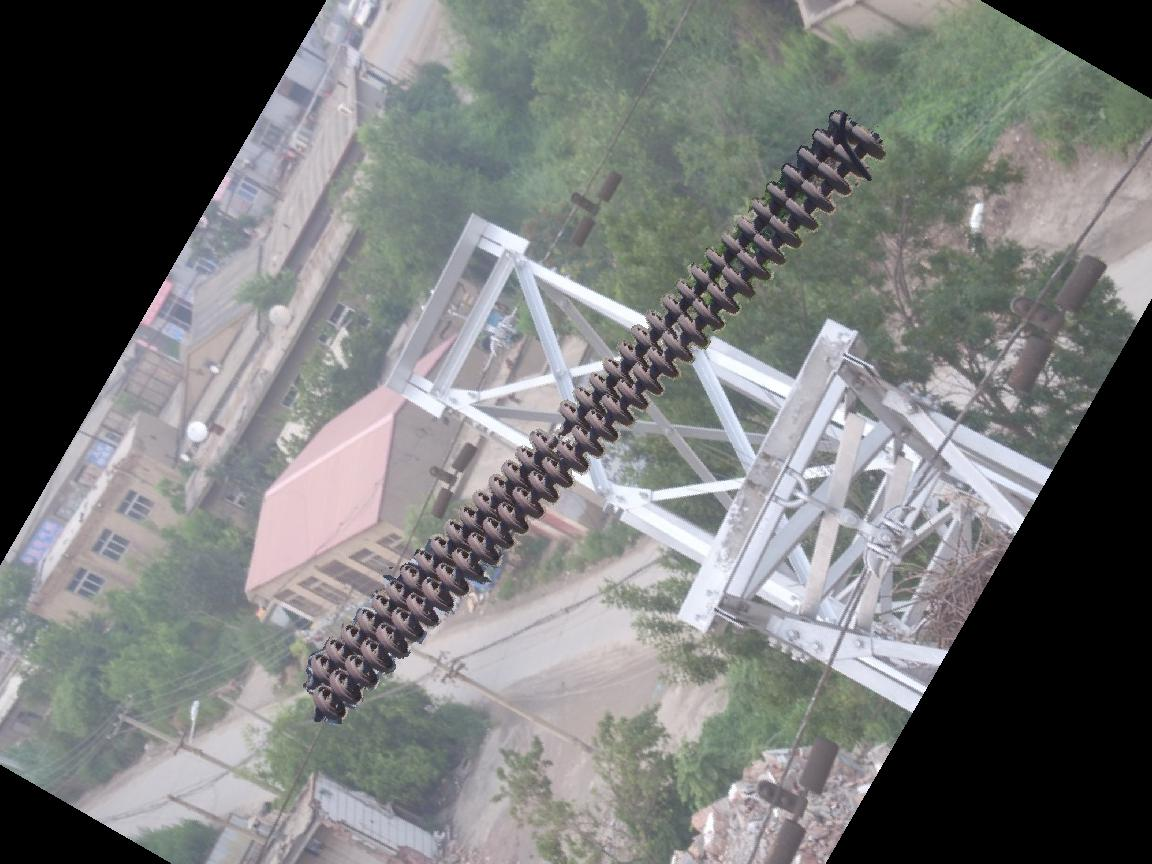insulator: (301, 104, 889, 733)
insulator_stringdrop: (526, 397, 587, 457)
